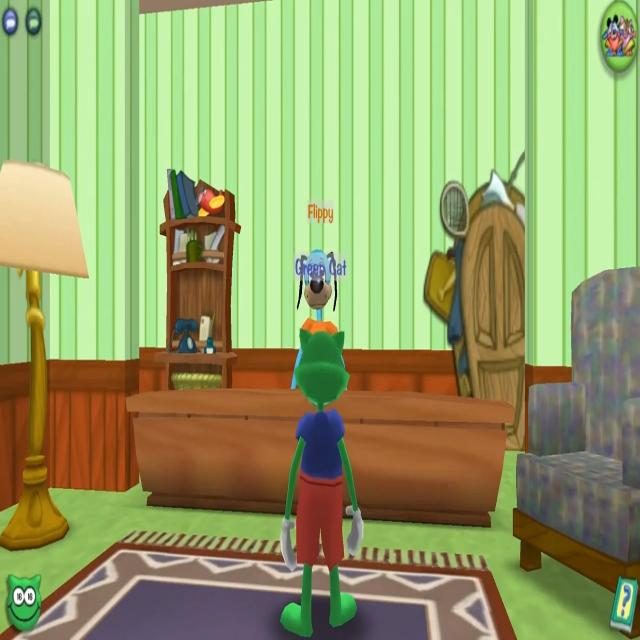npc: (291, 246, 359, 553)
